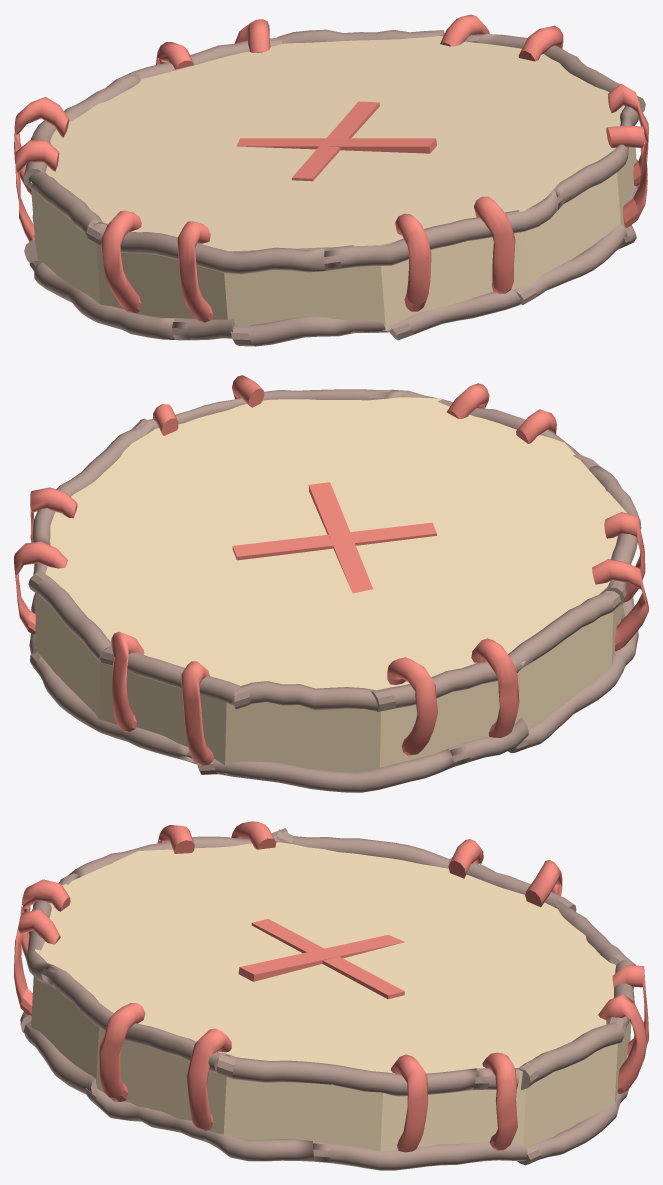
Rendered from tambor.gltf.
3 views of the same model, one above another, from view 1: azimuth 30°, elevation 25°; view 2: azimuth 150°, elevation 25°; view 3: azimuth 270°, elevation 25° (orthographic).
Parts seen in each view (by area): view 1: model; view 2: model; view 3: model.
Part boxes in pixels (x1=…): model: x1=14, y1=14, x2=648, y2=346; model: x1=14, y1=375, x2=648, y2=792; model: x1=14, y1=821, x2=648, y2=1170.
Size of the model in its own units: 0.5663 by 0.1752 by 0.5721.
